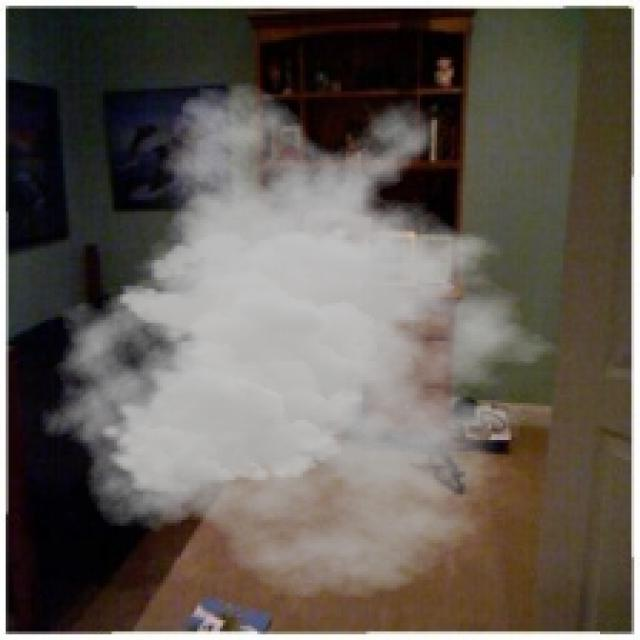smoke: (40, 80, 583, 600)
